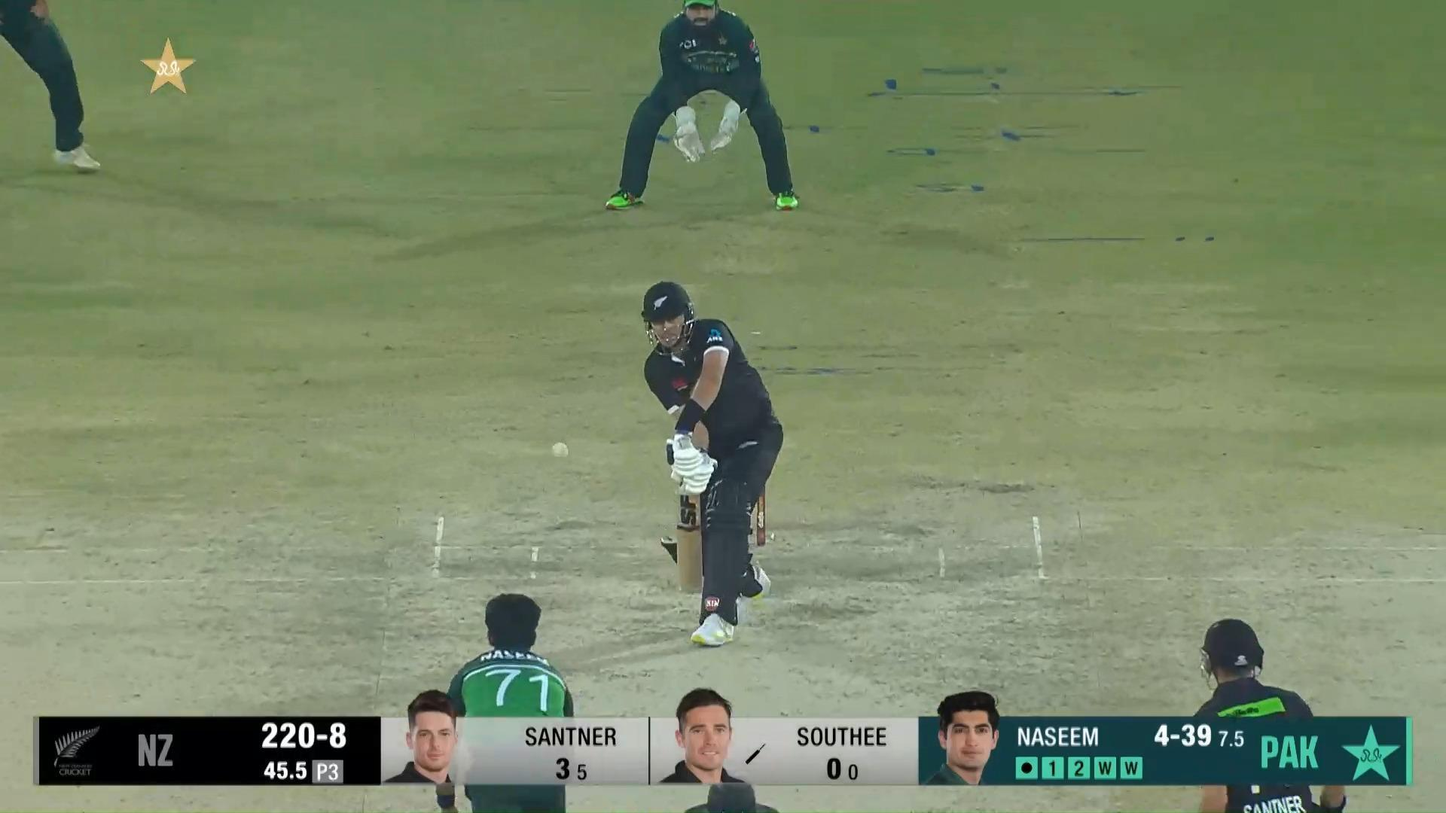BM 1: (639, 279, 786, 648)
BO: (426, 588, 578, 813)
